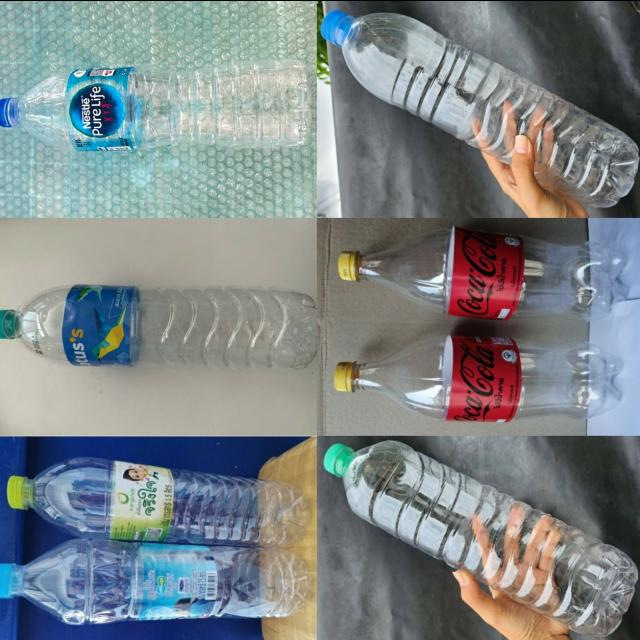plastik: (322, 10, 638, 206), (325, 440, 638, 635), (0, 59, 311, 150), (0, 284, 317, 371), (8, 456, 309, 545), (339, 226, 626, 319), (0, 538, 311, 623), (334, 335, 622, 422)
